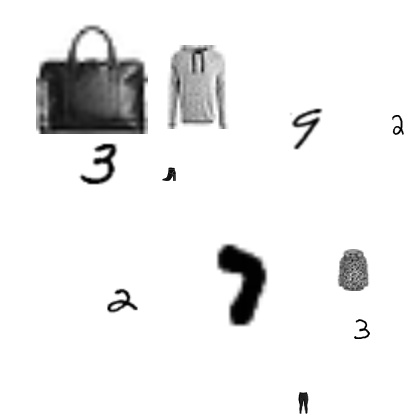2: (100, 280, 142, 322), (384, 111, 412, 139)
3: (75, 136, 131, 192), (348, 316, 376, 344)
7: (186, 225, 298, 337)
9: (278, 97, 334, 153)
Ankle_boot: (162, 167, 176, 181)
Bag: (36, 22, 148, 134)
Coat: (332, 249, 374, 291)
Pullover: (156, 45, 240, 129)
Trouser: (292, 392, 314, 414)
